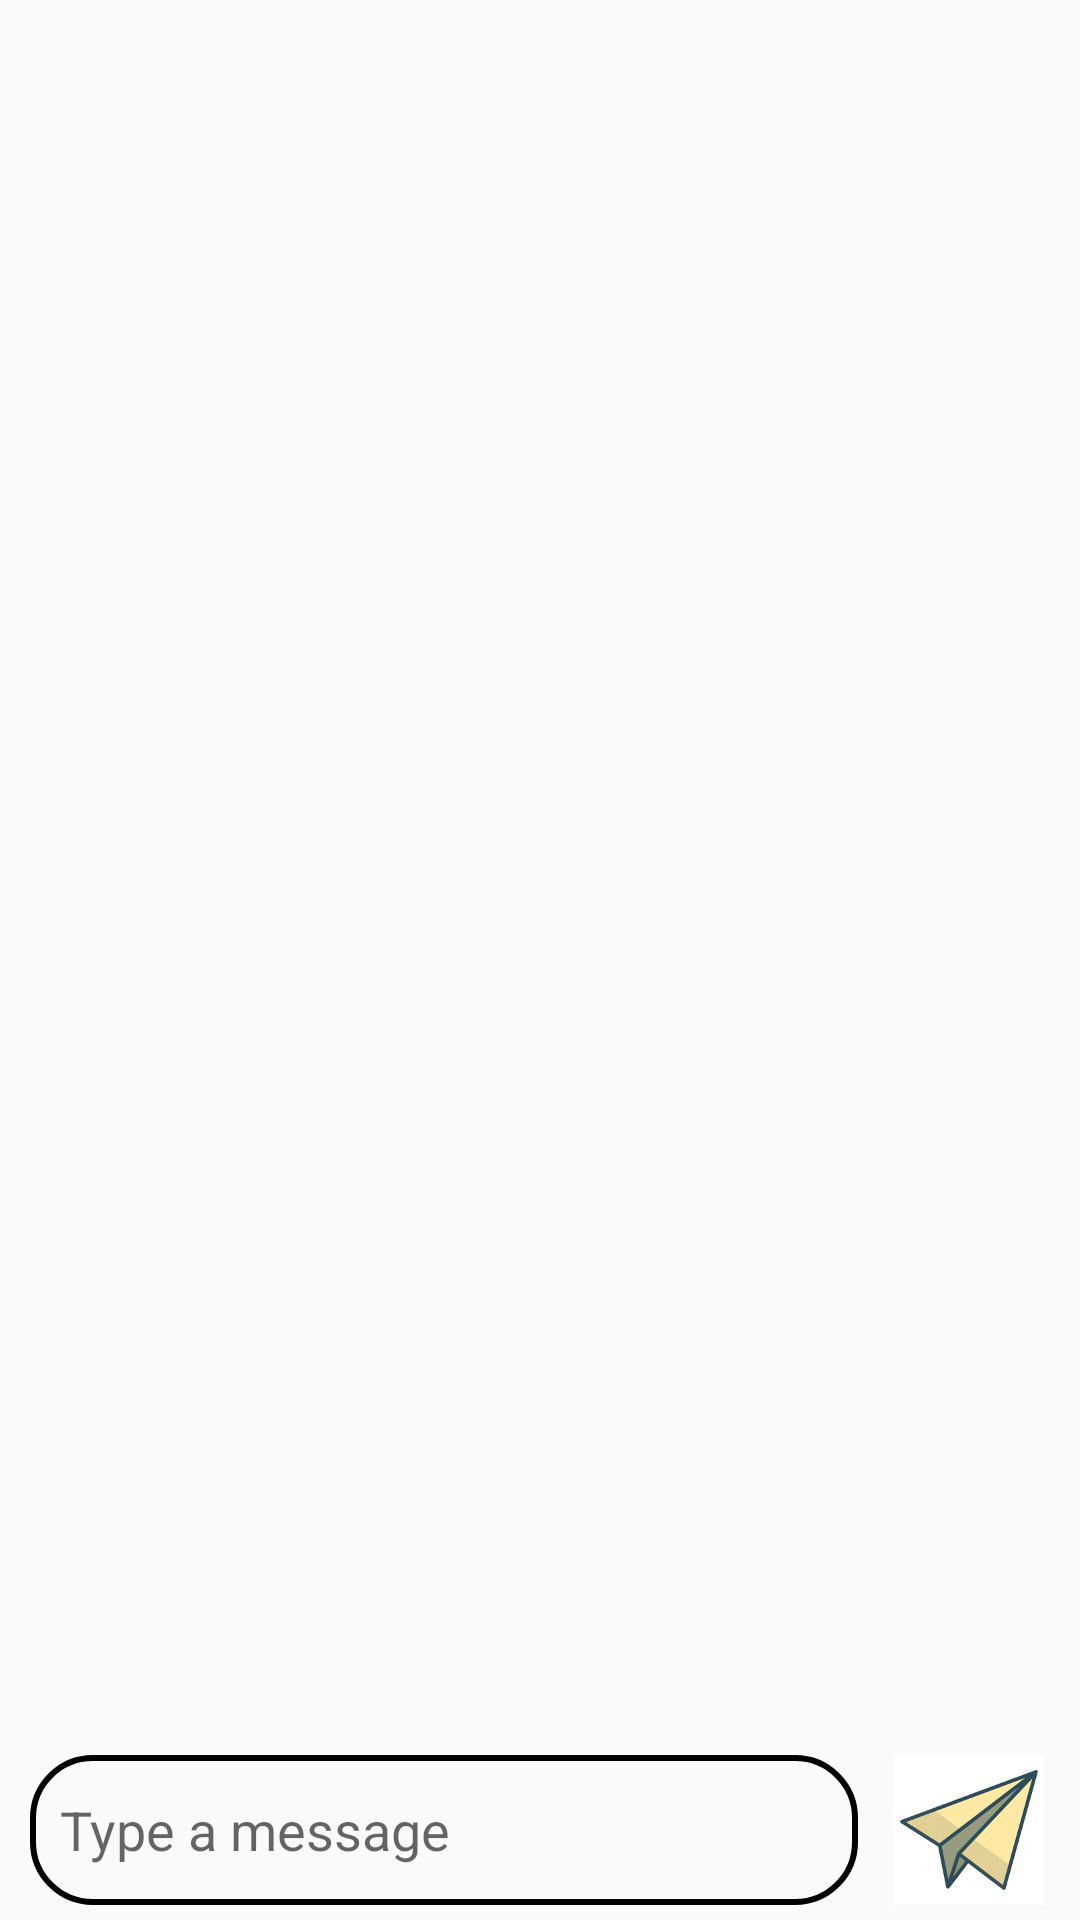

Named icons in this screenshot (1080 × 1920) and their centers, (x=x, y=y):
send: (x=969, y=1830)
